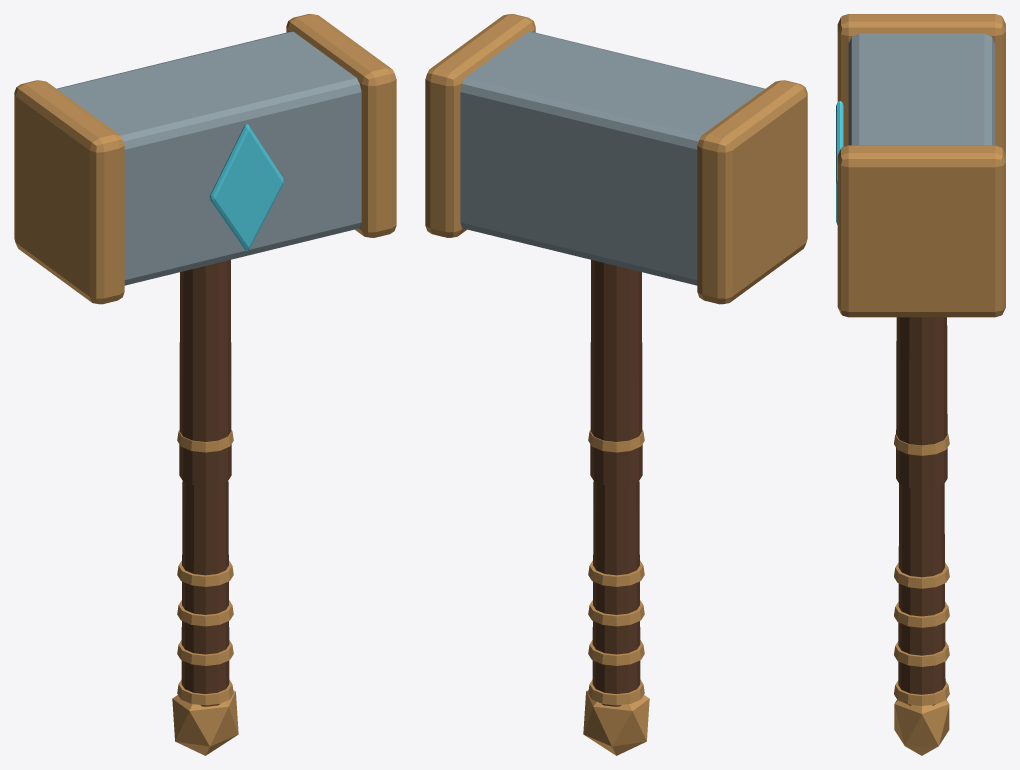
The model's file is Hammer.fbx.
3 views of the same model, side by side, from view 1: azimuth 30°, elevation 25°; view 2: azimuth 150°, elevation 25°; view 3: azimuth 270°, elevation 25° (orthographic).
Visible parts, largest first — view 1: Arsenal_Hammer; view 2: Arsenal_Hammer; view 3: Arsenal_Hammer.
Boxes of the visible parts, x1,y1,x2,y2 form: Arsenal_Hammer: (14, 14, 396, 755); Arsenal_Hammer: (425, 14, 807, 755); Arsenal_Hammer: (836, 14, 1005, 755).
Bounding box in the file's own units: 81 × 172 × 39.4.
